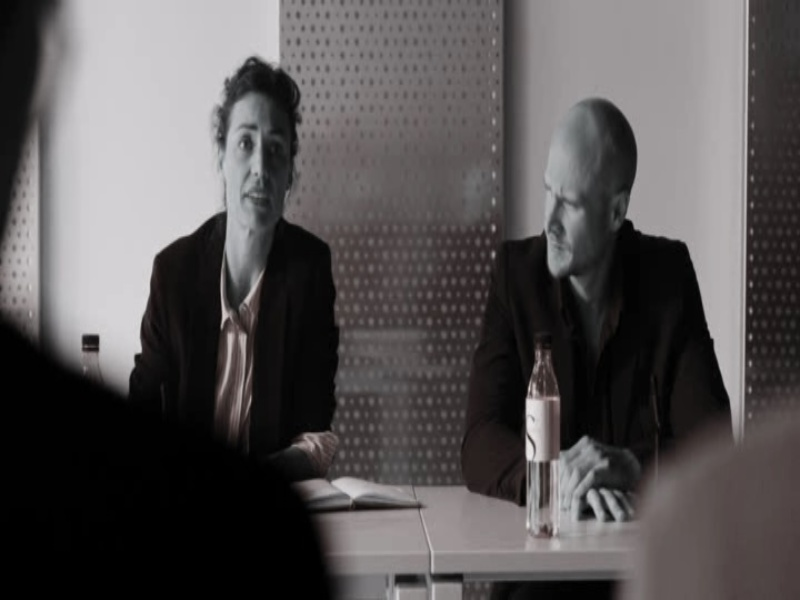TsisyArotava: (206, 61, 313, 251), (533, 98, 634, 290)
